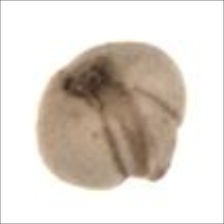L5: (98, 85, 184, 185), (53, 51, 126, 107)
L6: (34, 40, 189, 192)
